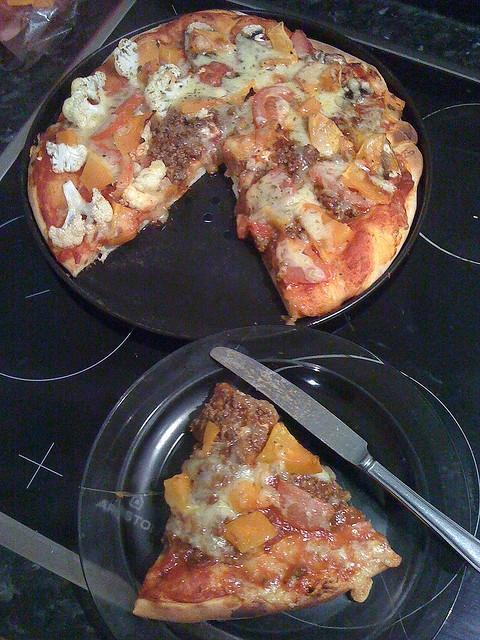cauliflower: (49, 180, 114, 248), (120, 160, 171, 212), (61, 70, 106, 128), (144, 64, 182, 105), (46, 142, 88, 174), (113, 38, 139, 78), (241, 24, 265, 41)
